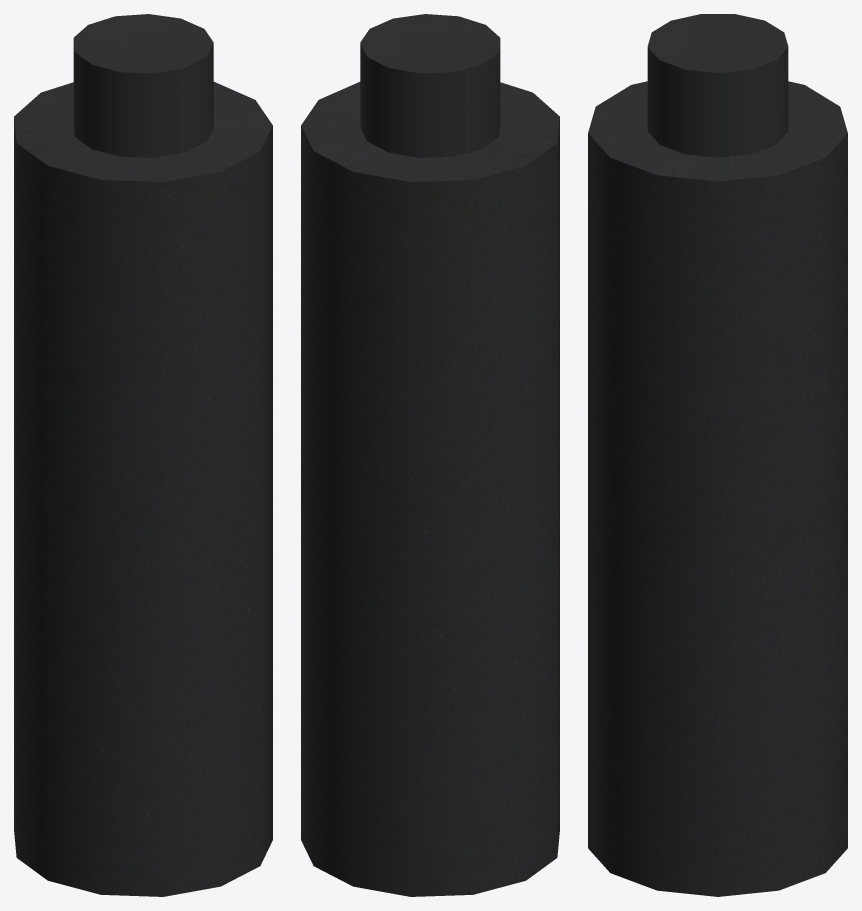
File: Headless_Shoulder_Pin.dae
The picture shows the model from 3 angles, left to right: view 1: azimuth 30°, elevation 25°; view 2: azimuth 150°, elevation 25°; view 3: azimuth 270°, elevation 25°; orthographic projection.
Visible parts, largest first — view 1: Headless_Shoulder_Pin; view 2: Headless_Shoulder_Pin; view 3: Headless_Shoulder_Pin.
Part boxes in pixels (left/top/right/bottom): Headless_Shoulder_Pin: left=14, top=14, right=272, bottom=896; Headless_Shoulder_Pin: left=301, top=14, right=559, bottom=896; Headless_Shoulder_Pin: left=588, top=14, right=847, bottom=896.
Bounding box in the file's own units: 0.00406 × 0.00409 × 0.0139.
1 material, 1 textured.
